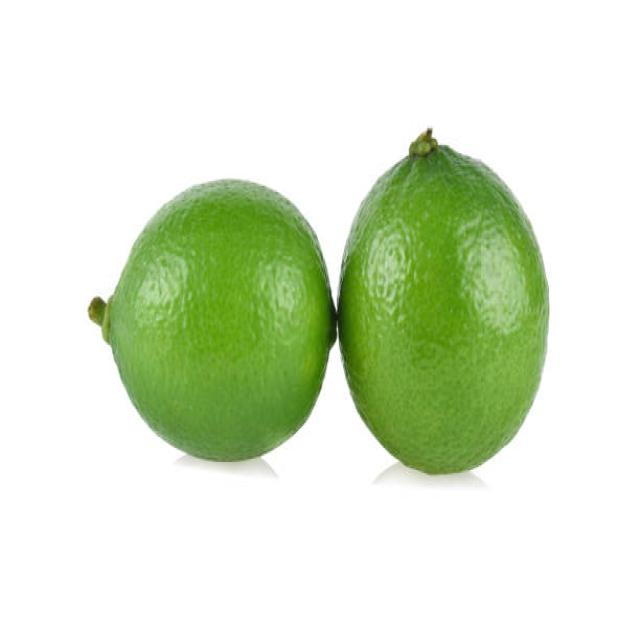Unripe: (340, 130, 548, 474), (100, 178, 338, 460)
